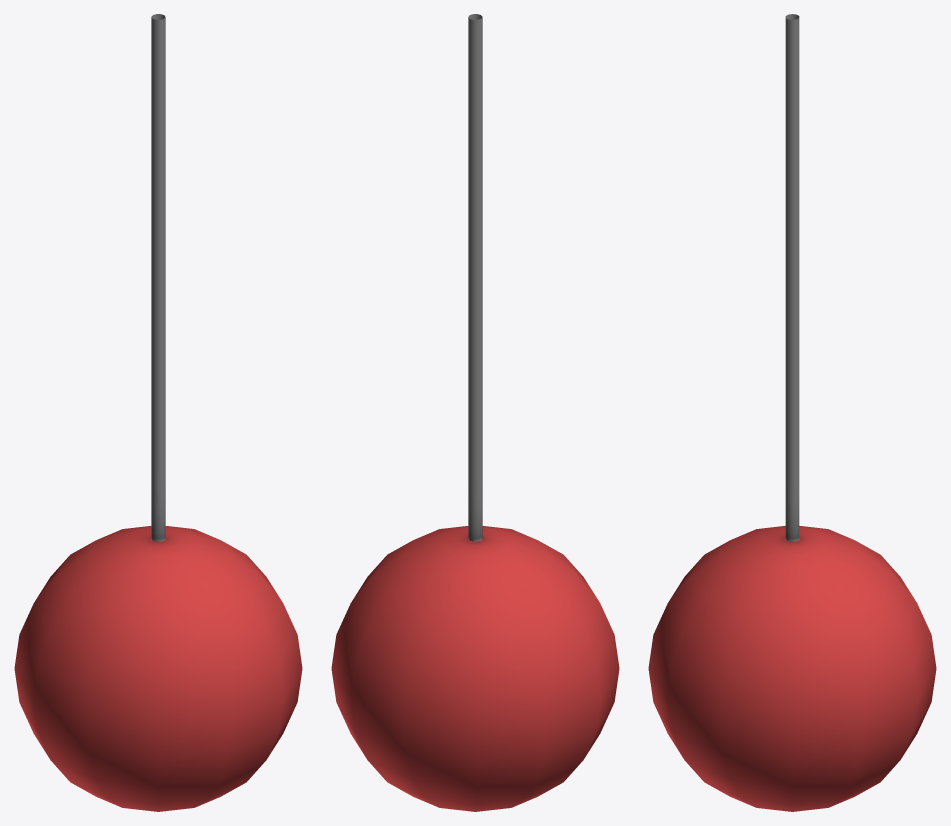
The model's file is Cannon_Ball.fbx.
3 renders of one model, left to right at view 1: azimuth 30°, elevation 25°; view 2: azimuth 150°, elevation 25°; view 3: azimuth 270°, elevation 25°, orthographic.
Parts seen in each view (by area): view 1: Cannon_Ball; view 2: Cannon_Ball; view 3: Cannon_Ball.
Part boxes in pixels (left/top/right/bottom): Cannon_Ball: left=14, top=14, right=302, bottom=811; Cannon_Ball: left=331, top=14, right=619, bottom=811; Cannon_Ball: left=648, top=14, right=936, bottom=811.
Size of the model in its own units: 200 by 599 by 200.
1 material, 1 textured.
